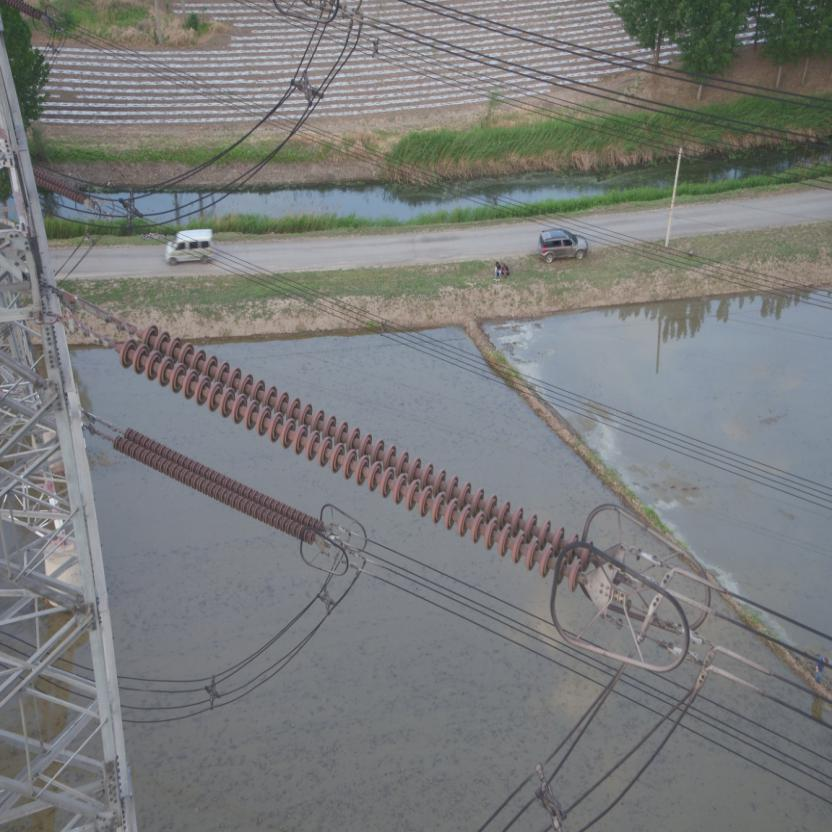insulator: (107, 312, 607, 599), (102, 420, 328, 548)
